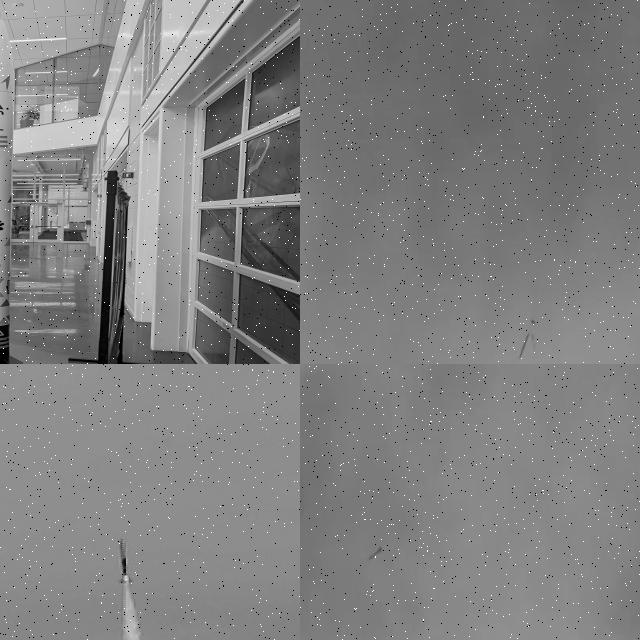Rocket: (0, 13, 23, 364), (117, 536, 135, 584), (368, 546, 382, 560)
